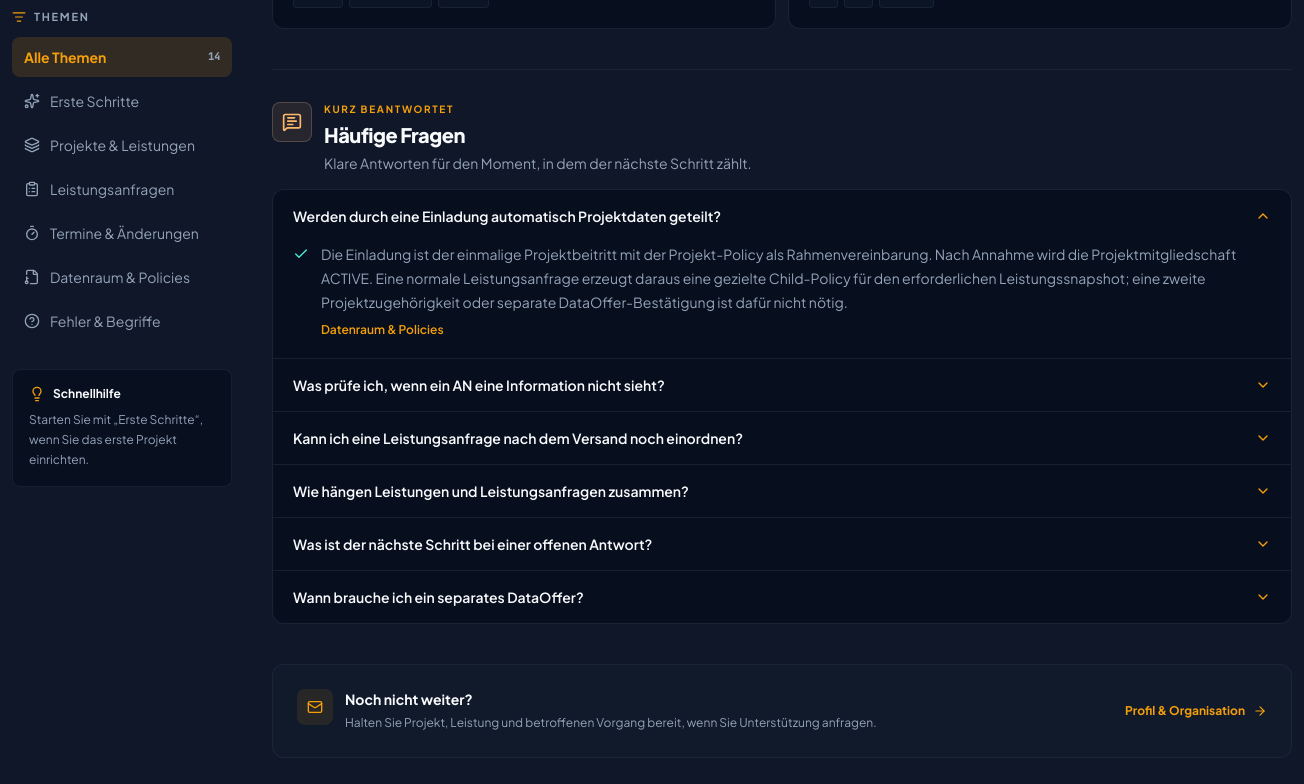
Test: AG-Hilfe › öffnet und schließt FAQ-Antworten
(page scrolled)
What coordinates should you click on to do the following:
click the button with test id "button-faq-faq-policy"
I would click on:
 (479, 384)
Its box is left=273, top=358, right=1291, bottom=410.
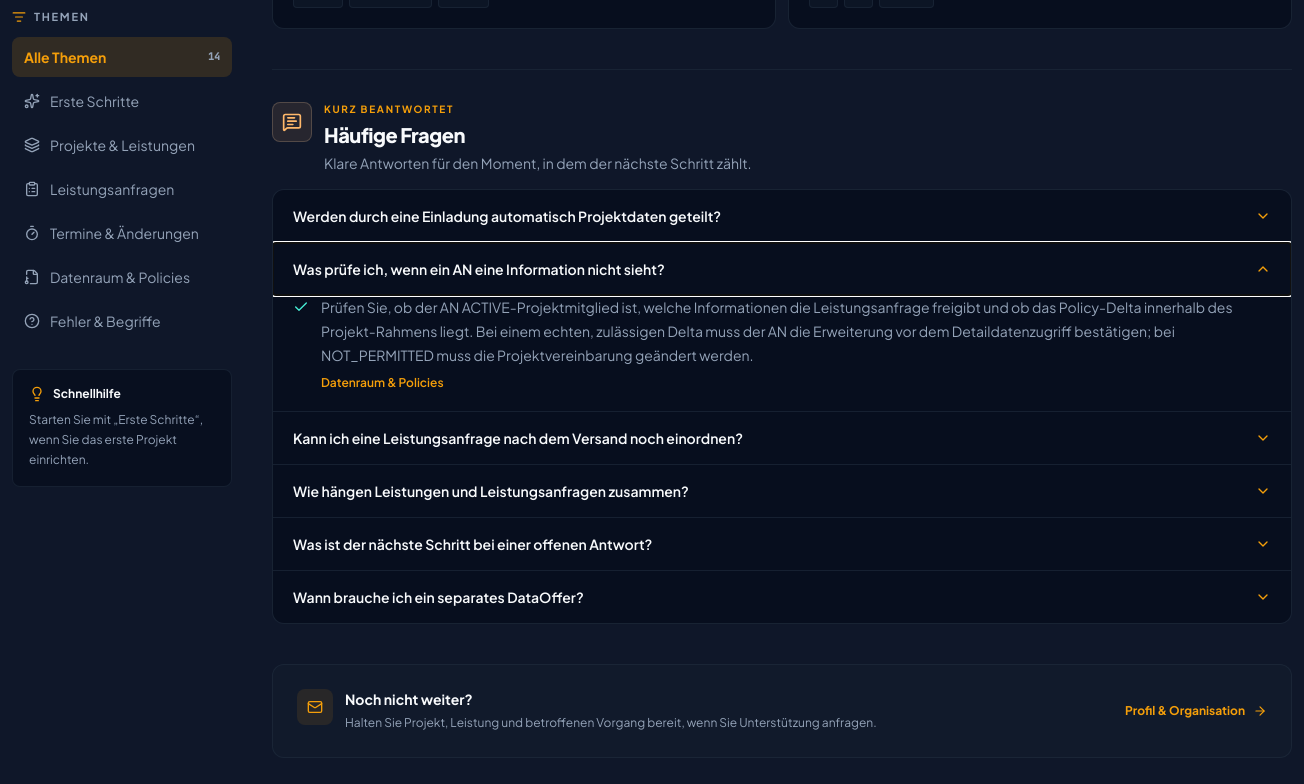
Result: the element with test id "answer-faq-faq-policy" is shown at left=273, top=294, right=1291, bottom=410
What coordinates should you click on to do the following:
click the button with test id "button-faq-faq-policy"
I would click on:
 (479, 268)
Its box is left=273, top=242, right=1291, bottom=294.
(page scrolled)
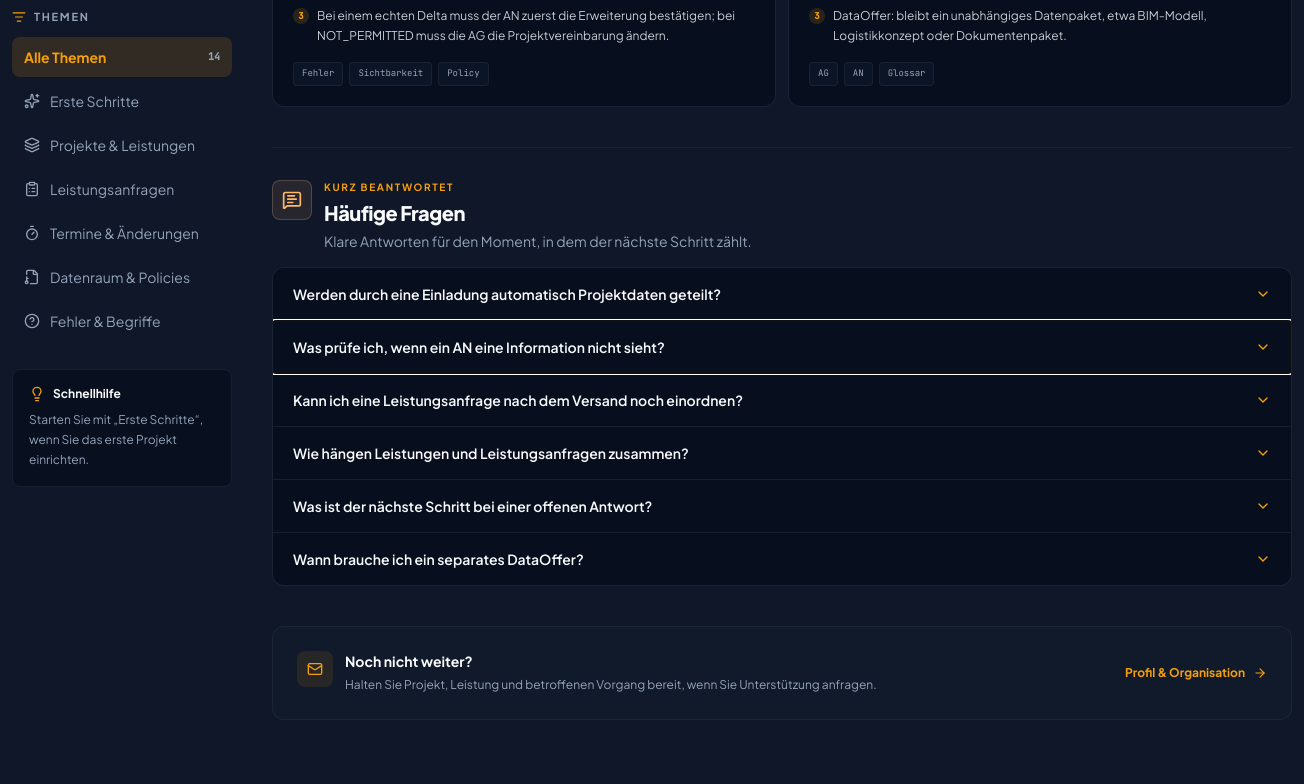
Result: the element with test id "answer-faq-faq-policy" is gone
